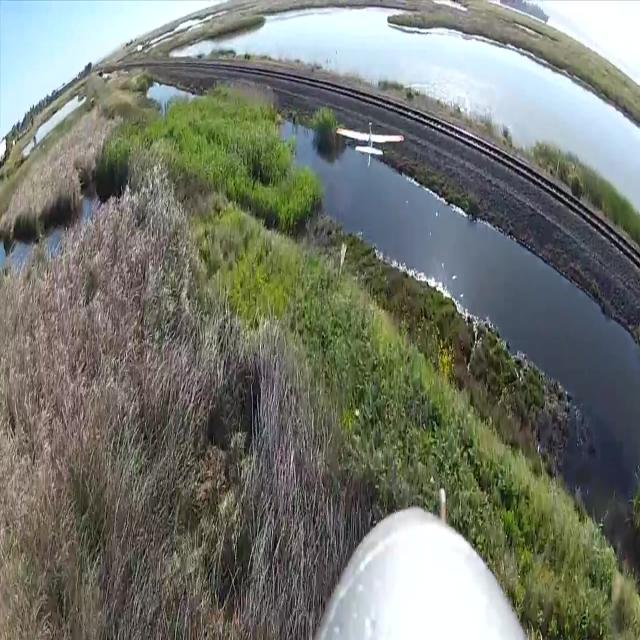iha: (367, 121, 372, 167)
